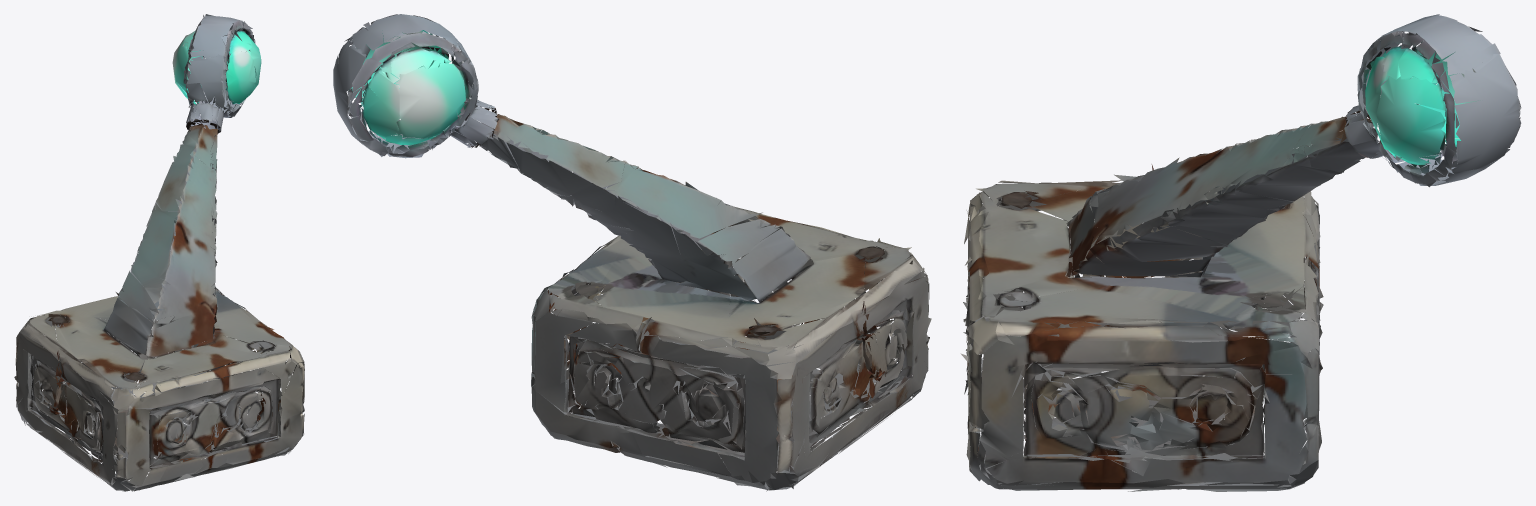
File: Lab_Lever.glb
The picture shows the model from 3 angles, left to right: view 1: azimuth 30°, elevation 25°; view 2: azimuth 150°, elevation 25°; view 3: azimuth 270°, elevation 25°; orthographic projection. The views are drawn at different scales.
Visible parts, largest first — view 1: Lab_Lever; view 2: Lab_Lever; view 3: Lab_Lever.
Part boxes in pixels (box(x1,y1,x2,y2)): Lab_Lever: box(14, 14, 304, 491); Lab_Lever: box(333, 14, 931, 491); Lab_Lever: box(960, 14, 1521, 491).
Bounding box in the file's own units: 1.01 × 1.01 × 0.9951.
Materials: 1 (1 with a texture image).
